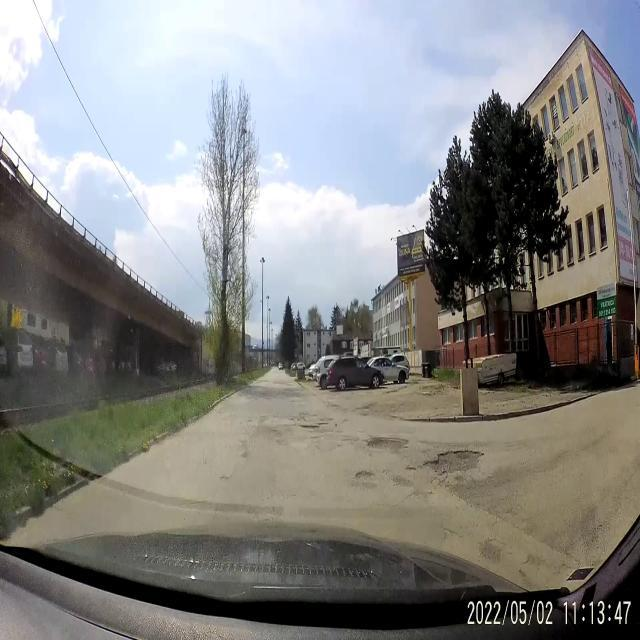Pothole: (420, 447, 483, 478), (365, 433, 412, 455), (353, 465, 378, 490), (403, 460, 418, 474), (288, 412, 308, 422), (297, 424, 321, 431), (340, 434, 360, 442), (220, 474, 230, 486), (318, 418, 330, 424)
